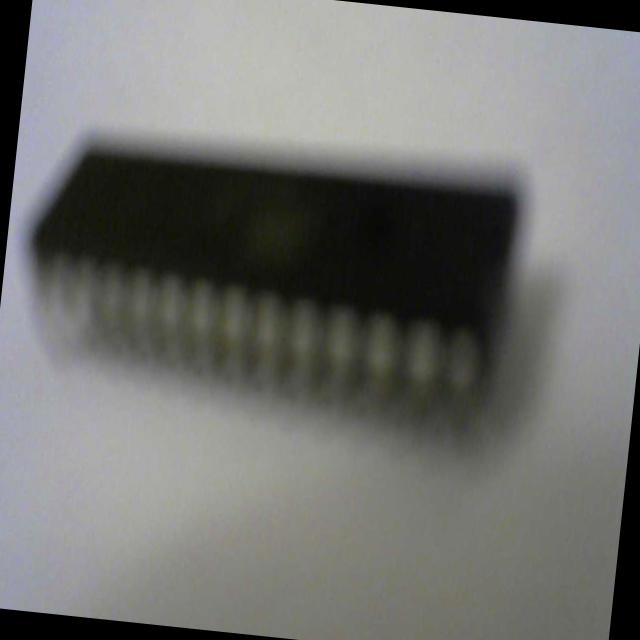atmega: (11, 117, 536, 455)
